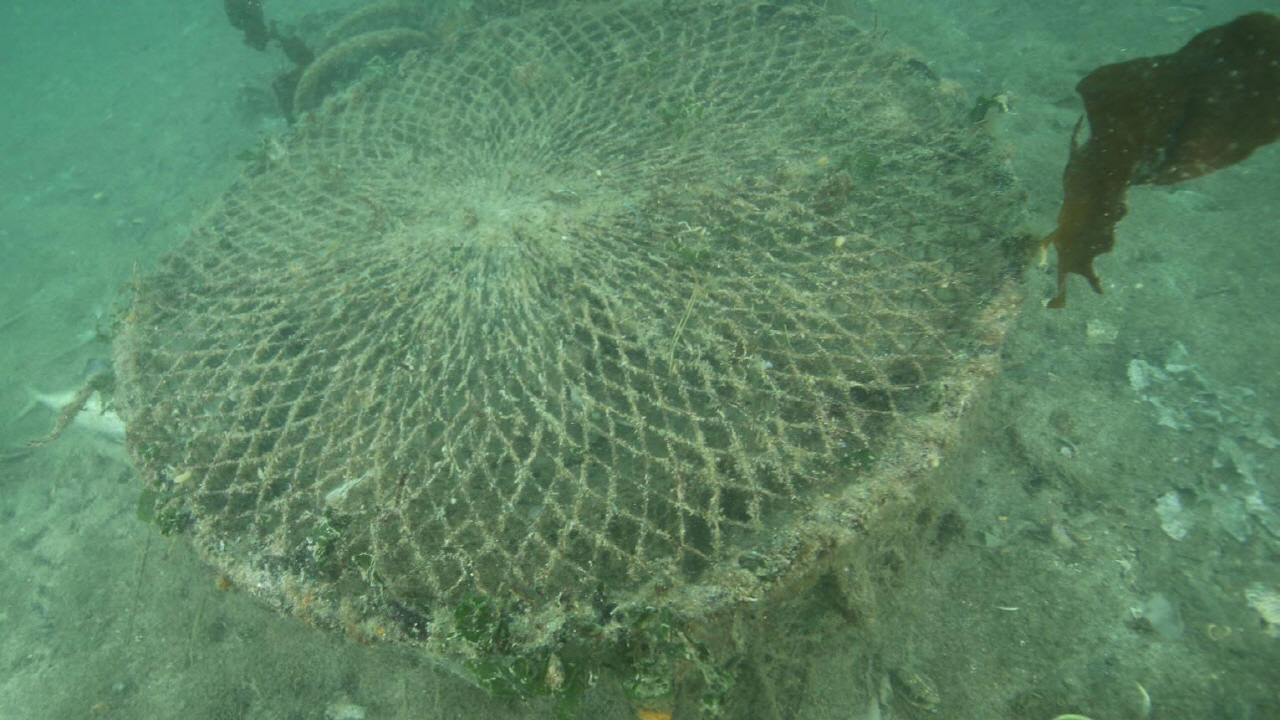circular fish trap: (113, 0, 1030, 652)
